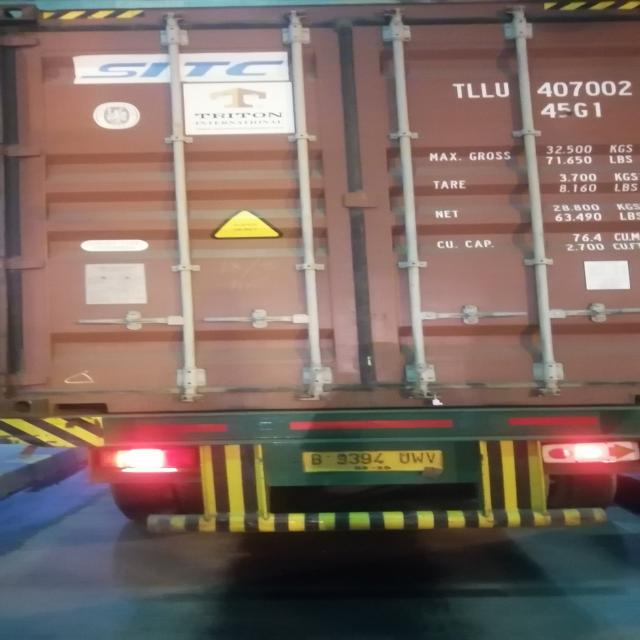seal: (430, 392, 445, 406)
